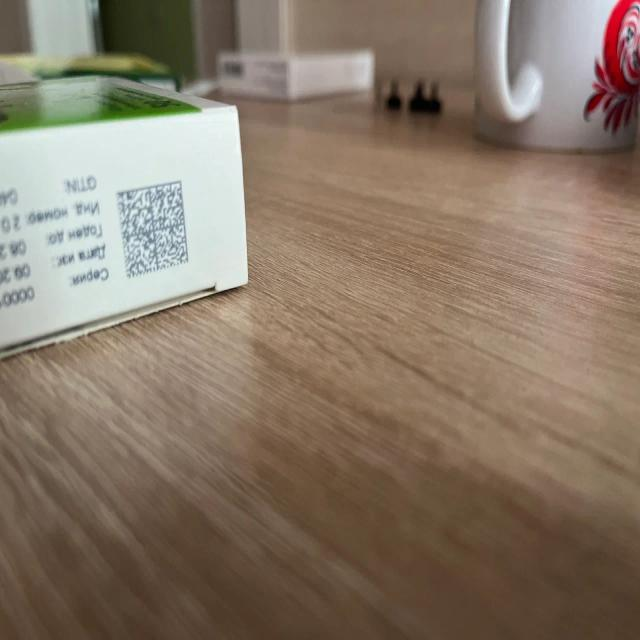datamatrix: (116, 179, 190, 281)
